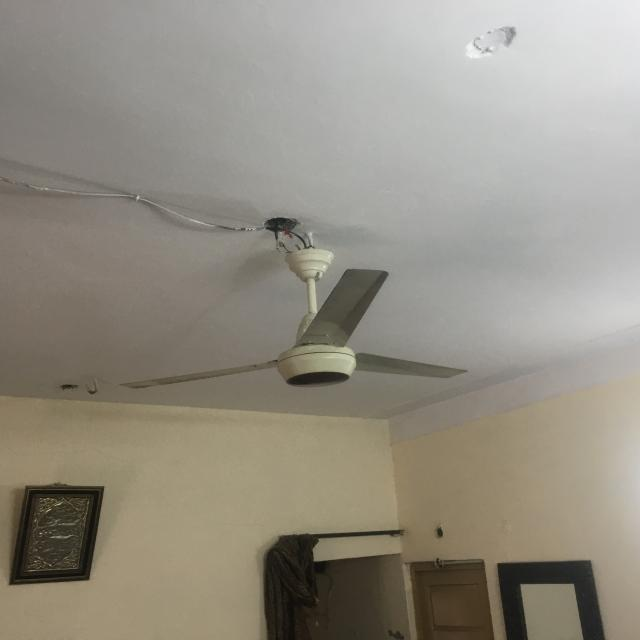off: (108, 259, 476, 396)
